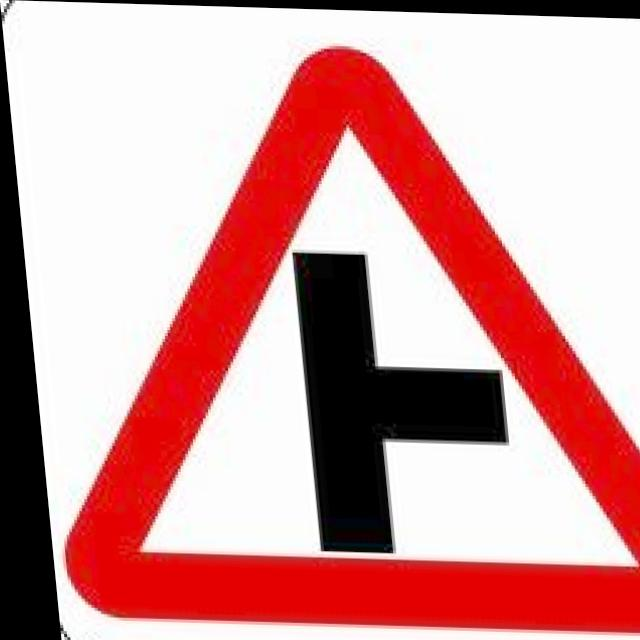SIDE_ROAD_RIGHT: (2, 30, 640, 637)
